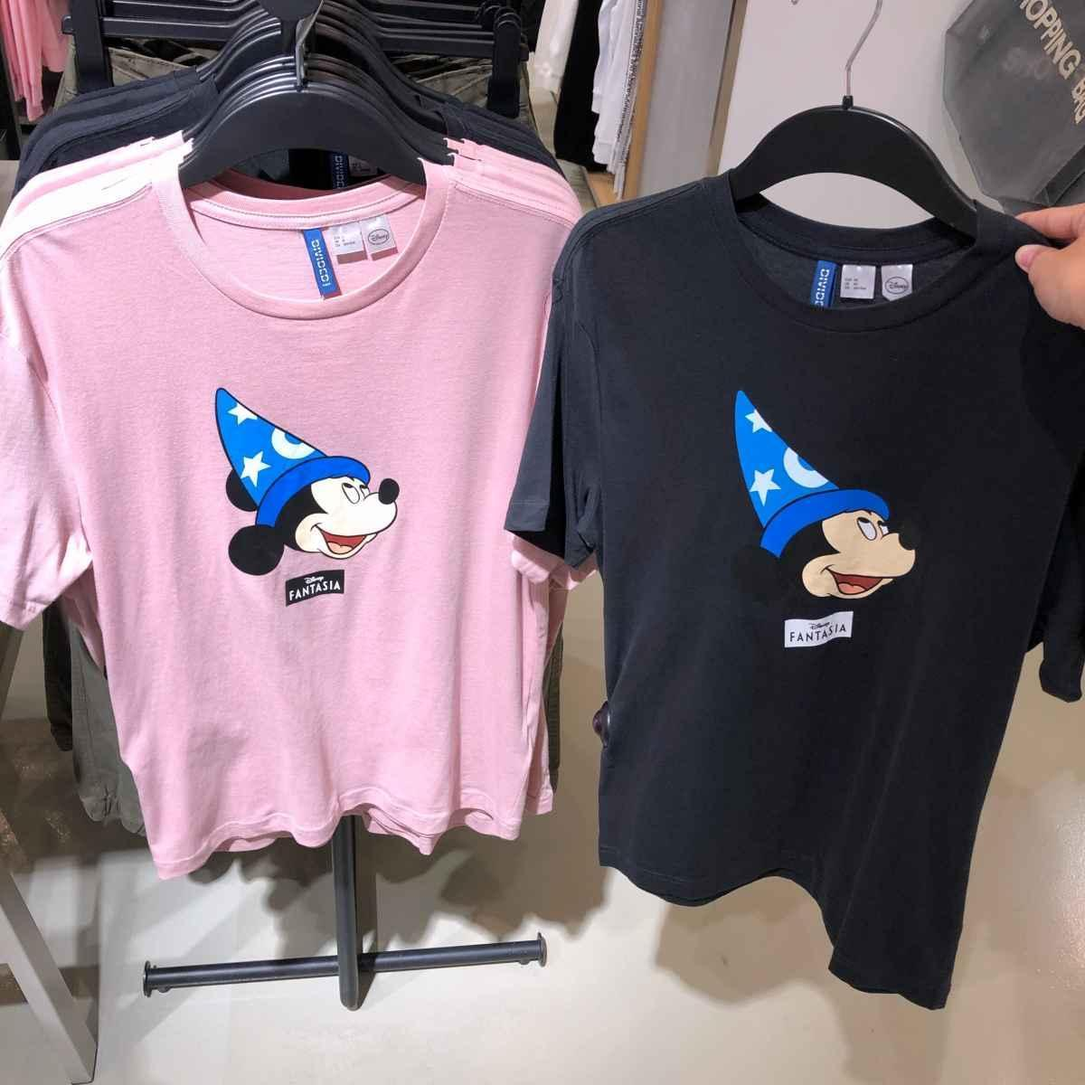Tshirt: (545, 188, 1085, 944), (0, 163, 547, 841)
